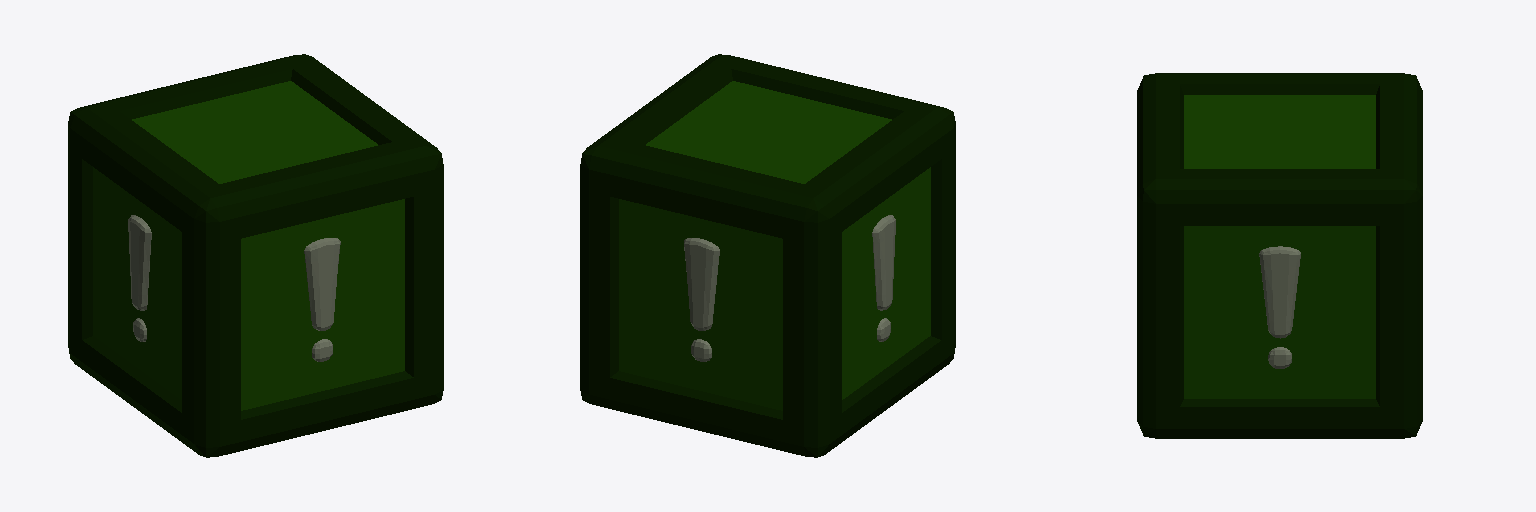
File: Cube_Exclamation_Cube.obj
3 views of the same model, side by side, from view 1: azimuth 30°, elevation 25°; view 2: azimuth 150°, elevation 25°; view 3: azimuth 270°, elevation 25° (orthographic).
Visible parts, largest first — view 1: Cube_Exclamation_Cube; view 2: Cube_Exclamation_Cube; view 3: Cube_Exclamation_Cube.
Boxes of the visible parts, x1=… form: Cube_Exclamation_Cube: x1=68, y1=54, x2=443, y2=457; Cube_Exclamation_Cube: x1=580, y1=54, x2=955, y2=457; Cube_Exclamation_Cube: x1=1137, y1=73, x2=1422, y2=438.
Size of the model in its own units: 2.02 by 2.02 by 2.02.